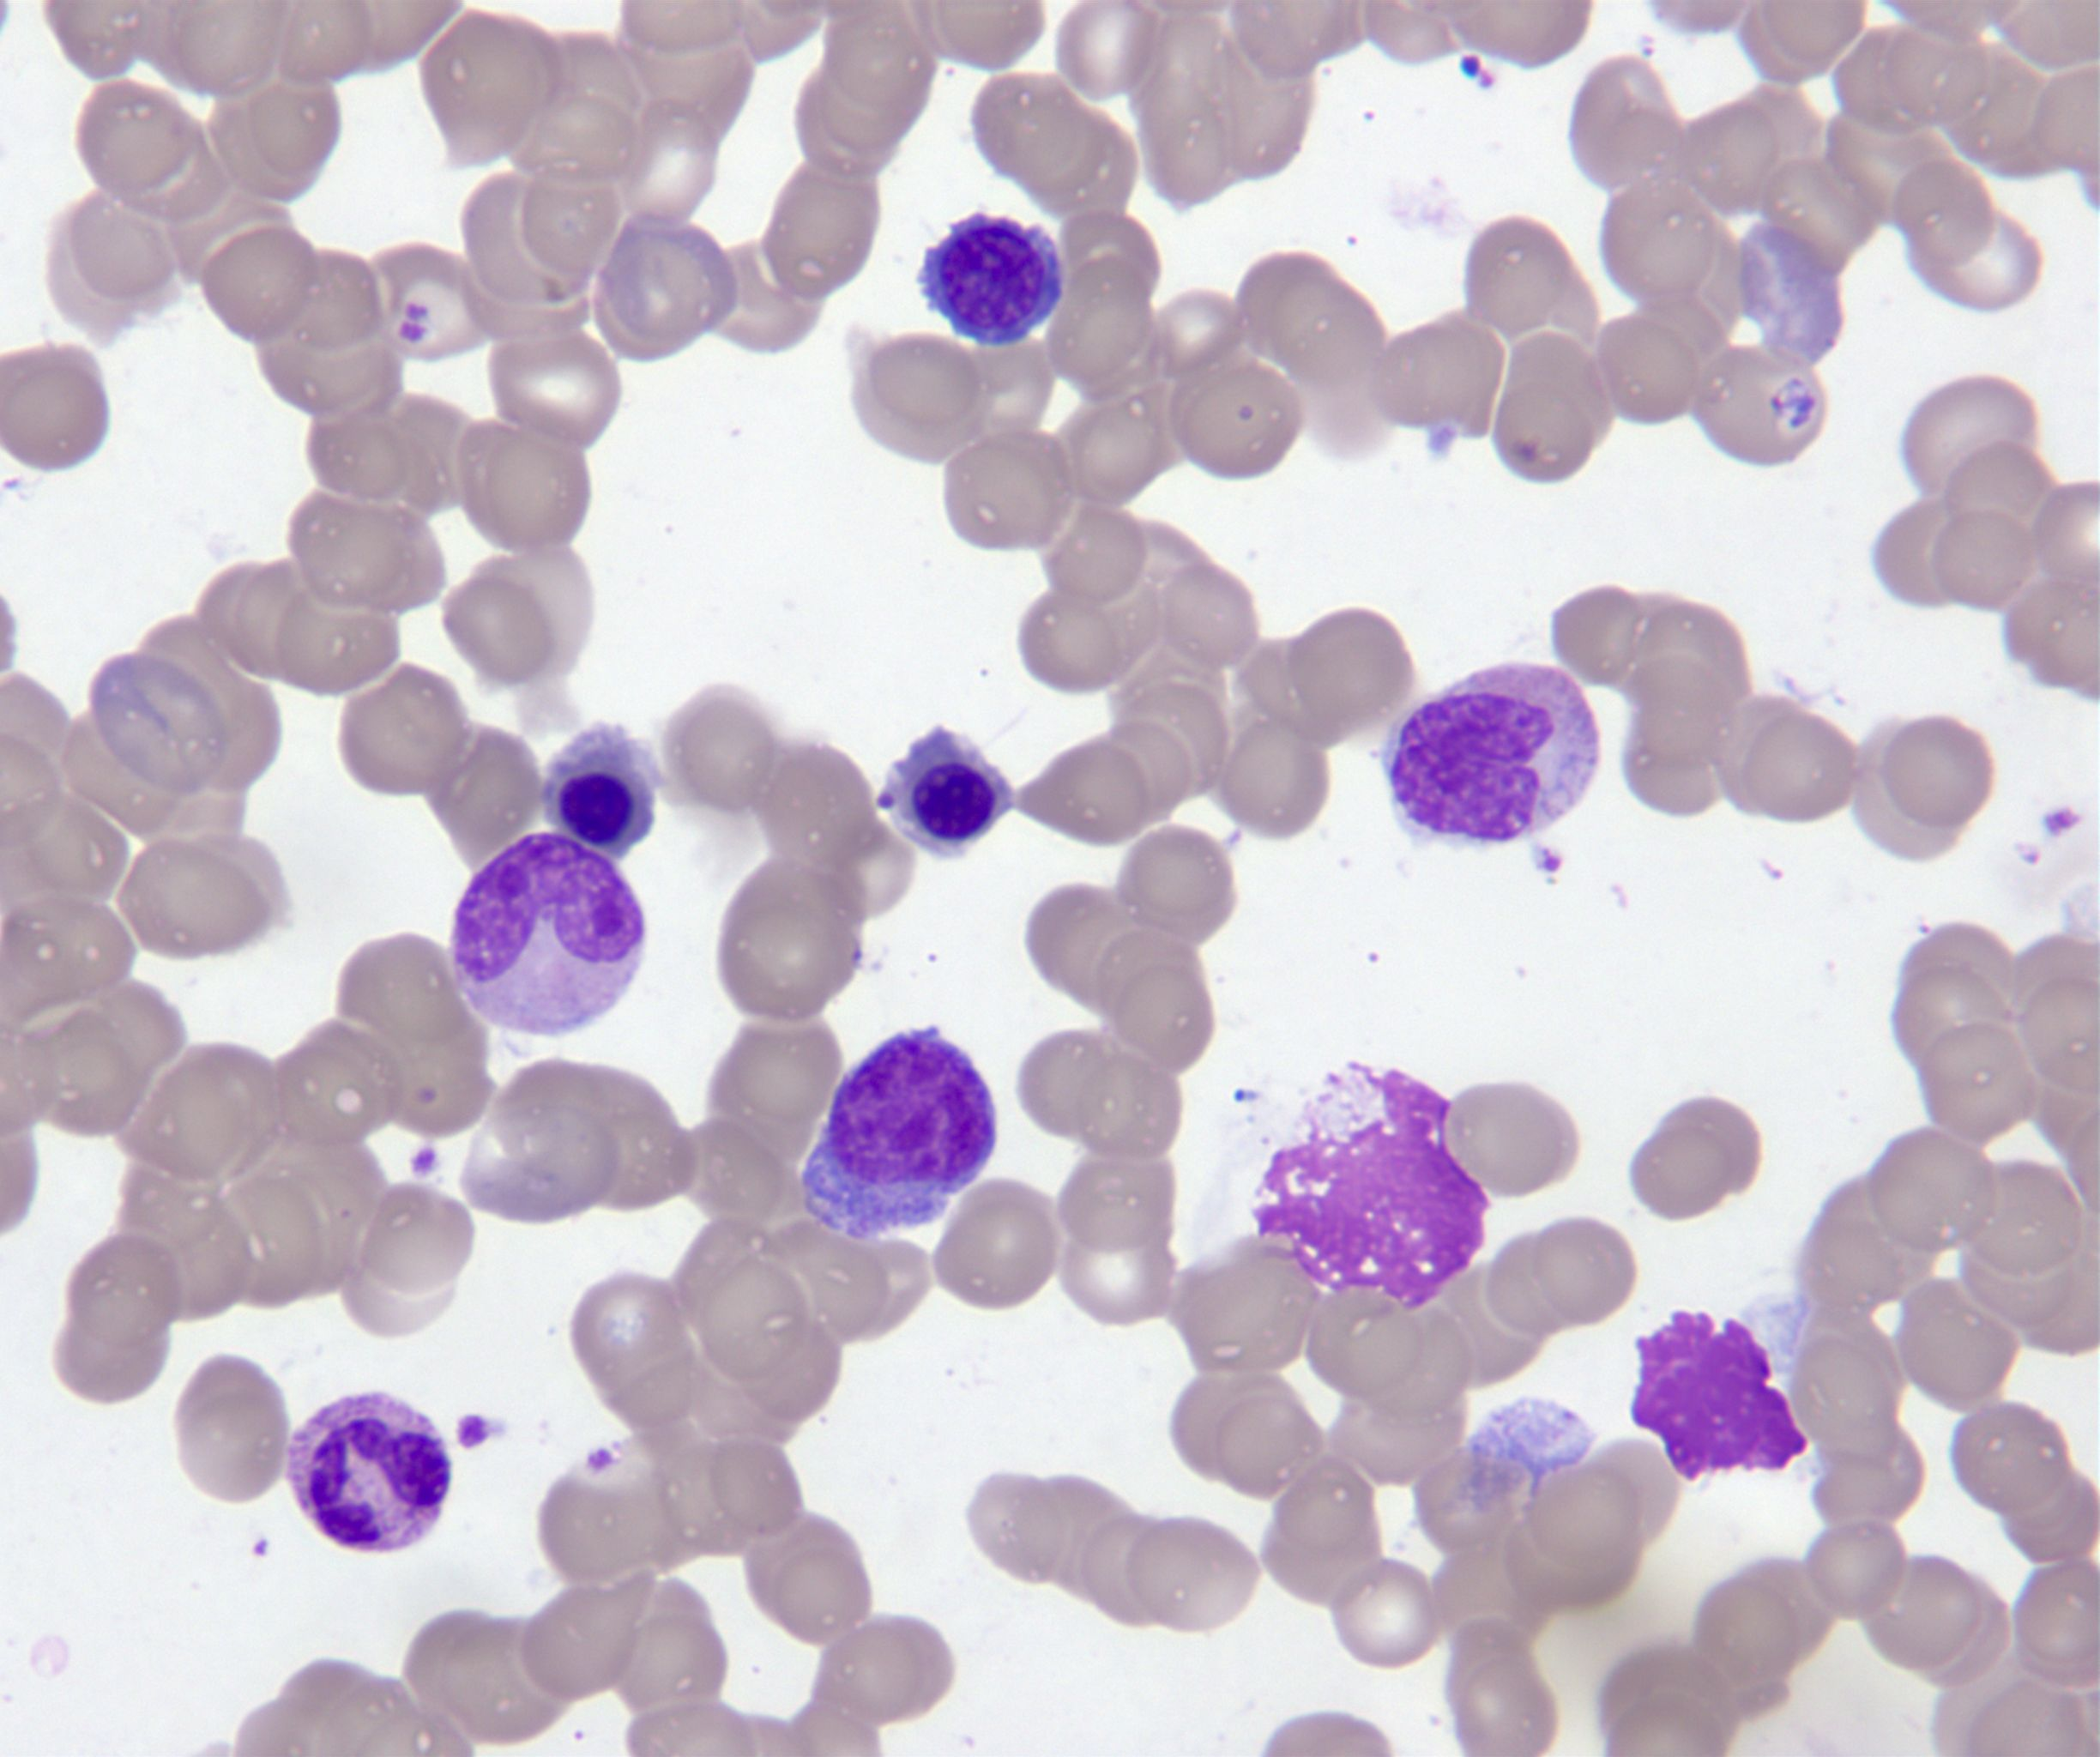23: (910, 209, 1073, 358)
24: (876, 722, 1015, 857), (539, 721, 665, 864)
4: (1378, 656, 1608, 853), (447, 831, 647, 1045)
42: (801, 1015, 999, 1246)
6: (281, 1389, 455, 1558)
x: (1249, 1056, 1495, 1319), (1627, 1305, 1817, 1488)
